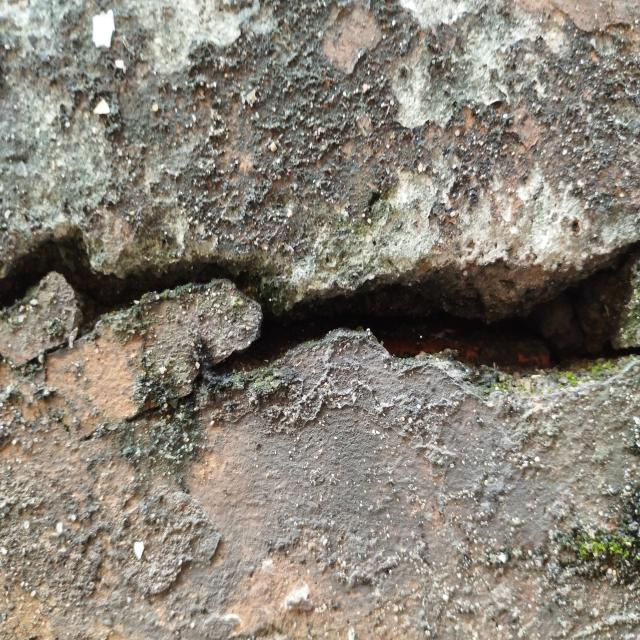horizontal crack: (0, 241, 640, 377)
